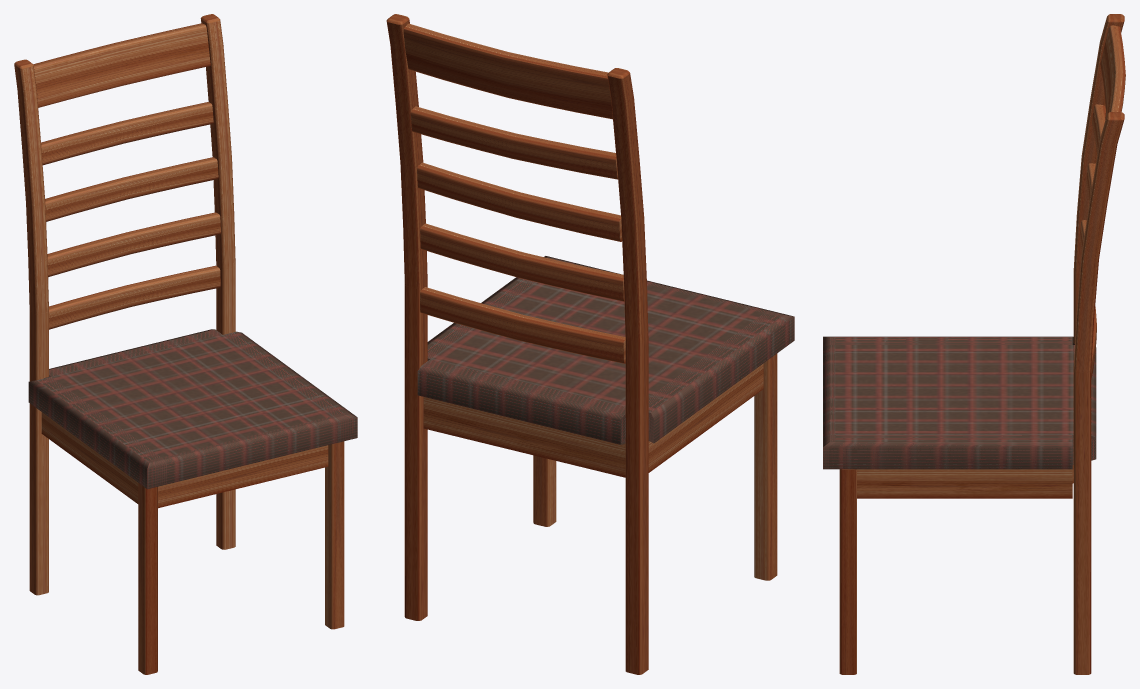
Rendered from Chair.dae.
3 views of the same model, side by side, from view 1: azimuth 30°, elevation 25°; view 2: azimuth 150°, elevation 25°; view 3: azimuth 270°, elevation 25° (orthographic). The views are drawn at different scales.
Visible parts, largest first — view 1: polySurface2-001, BackLeg2-001, Backrest1-001, BackLeg1-001, polySurface3-001, Backrest4-001, Backrest3-001, Backrest2-001, Backrest5-001, SeatFrame5-001, FrontLeg2-001, FrontLeg1-001 (+1 smaller); view 2: polySurface2-001, BackLeg2-001, BackLeg1-001, Backrest1-001, SeatFrame4-001, Backrest5-001, Backrest4-001, Backrest3-001, Backrest2-001, FrontLeg2-001, SeatFrame2-001, polySurface3-001 (+1 smaller); view 3: polySurface2-001, BackLeg1-001, SeatFrame1-001, FrontLeg1-001, polySurface3-001, BackLeg2-001, Backrest1-001.
Boxes of the visible parts, x1=… form: polySurface2-001: x1=28, y1=329, x2=357, y2=489; BackLeg2-001: x1=14, y1=59, x2=48, y2=595; Backrest1-001: x1=33, y1=23, x2=210, y2=107; BackLeg1-001: x1=200, y1=14, x2=235, y2=549; polySurface3-001: x1=29, y1=340, x2=357, y2=488; Backrest4-001: x1=47, y1=212, x2=220, y2=277; Backrest3-001: x1=45, y1=157, x2=218, y2=221; Backrest2-001: x1=41, y1=102, x2=213, y2=165; Backrest5-001: x1=49, y1=265, x2=220, y2=329; SeatFrame5-001: x1=158, y1=445, x2=328, y2=508; FrontLeg2-001: x1=138, y1=483, x2=157, y2=674; FrontLeg1-001: x1=325, y1=441, x2=344, y2=629; polySurface2-001: x1=417, y1=256, x2=794, y2=444; BackLeg2-001: x1=607, y1=68, x2=648, y2=674; BackLeg1-001: x1=386, y1=14, x2=427, y2=620; Backrest1-001: x1=403, y1=23, x2=612, y2=119; SeatFrame4-001: x1=423, y1=397, x2=625, y2=477; Backrest5-001: x1=420, y1=287, x2=625, y2=363; Backrest4-001: x1=420, y1=223, x2=624, y2=301; Backrest3-001: x1=417, y1=162, x2=622, y2=241; Backrest2-001: x1=410, y1=106, x2=617, y2=179; FrontLeg2-001: x1=754, y1=353, x2=777, y2=580; SeatFrame2-001: x1=648, y1=363, x2=763, y2=472; polySurface3-001: x1=451, y1=256, x2=794, y2=442; polySurface2-001: x1=823, y1=336, x2=1096, y2=469; BackLeg1-001: x1=1073, y1=112, x2=1124, y2=674; SeatFrame1-001: x1=857, y1=469, x2=1072, y2=498; FrontLeg1-001: x1=839, y1=469, x2=856, y2=674; polySurface3-001: x1=823, y1=336, x2=1072, y2=469; BackLeg2-001: x1=1073, y1=14, x2=1124, y2=343; Backrest1-001: x1=1100, y1=25, x2=1125, y2=119.
Bounding box in the file's own units: 0.45 × 1.06 × 0.5211.
3 materials, 3 textured.
